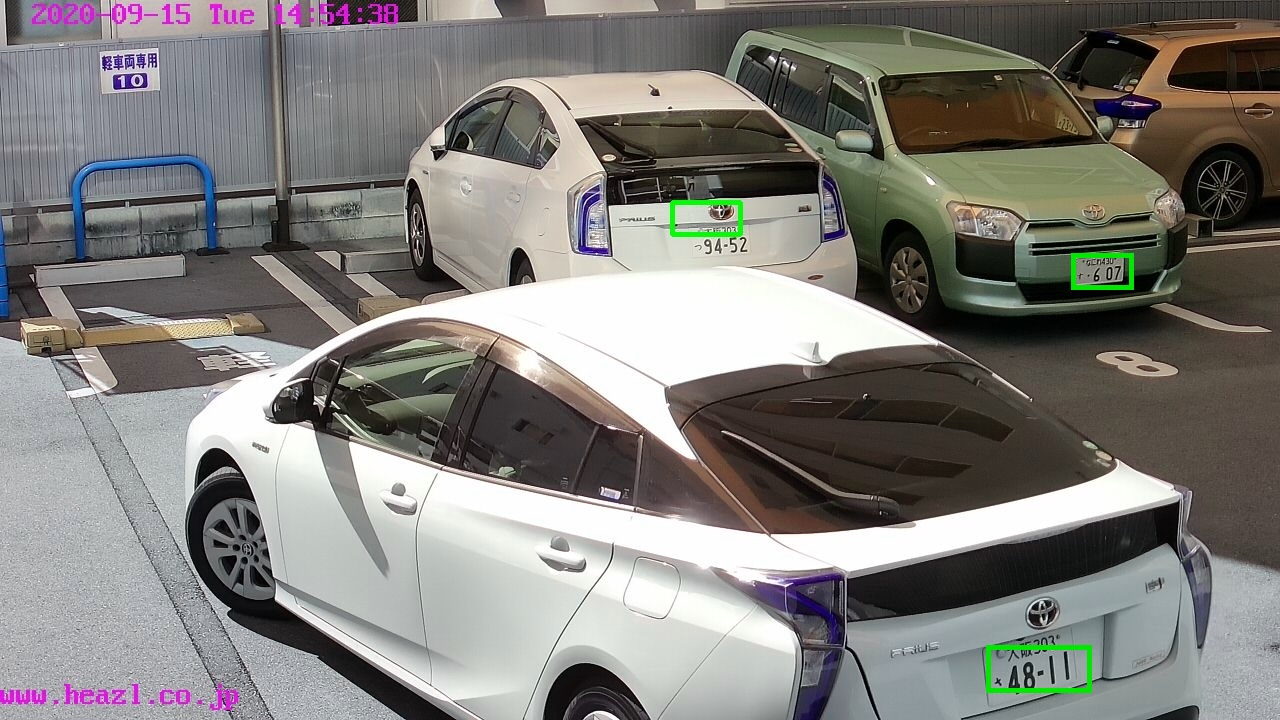number_plate: (986, 637, 1086, 696), (691, 224, 753, 255), (1074, 253, 1128, 283)
